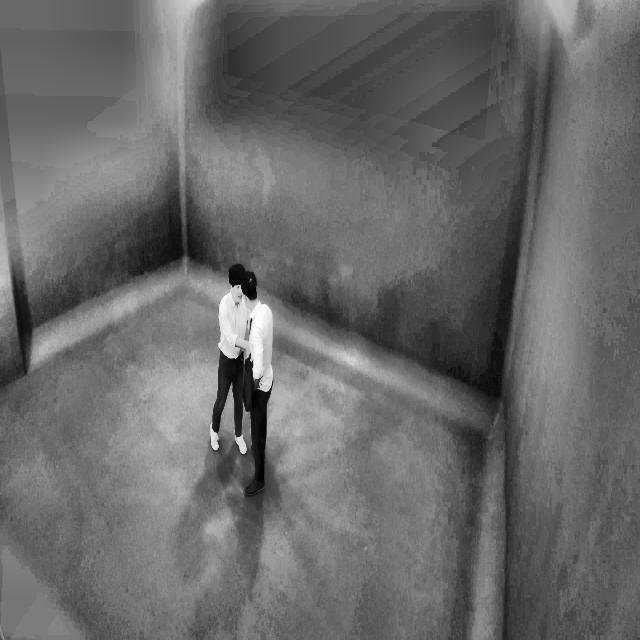assult: (209, 250, 275, 501)
